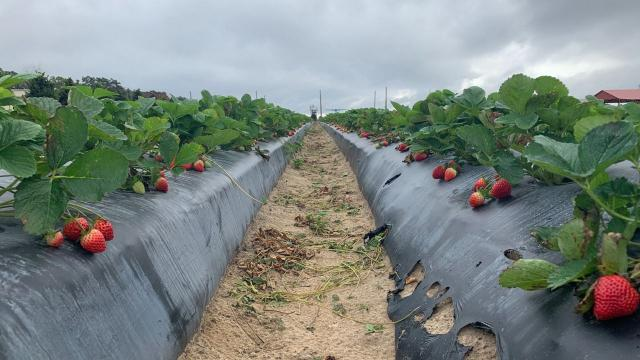Strawberries: (594, 275, 638, 319), (80, 229, 106, 252), (62, 218, 88, 240), (95, 219, 114, 241), (491, 180, 512, 198), (44, 231, 64, 246), (470, 192, 484, 207), (155, 178, 169, 192), (474, 177, 488, 191), (444, 168, 456, 180), (433, 166, 445, 178), (193, 160, 204, 172)
